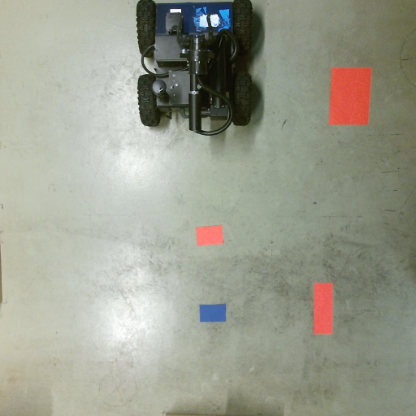Blue: (197, 302, 229, 323)
Jaguar: (133, 0, 255, 137)
Red: (328, 67, 371, 128), (312, 279, 335, 337), (194, 224, 224, 248)
